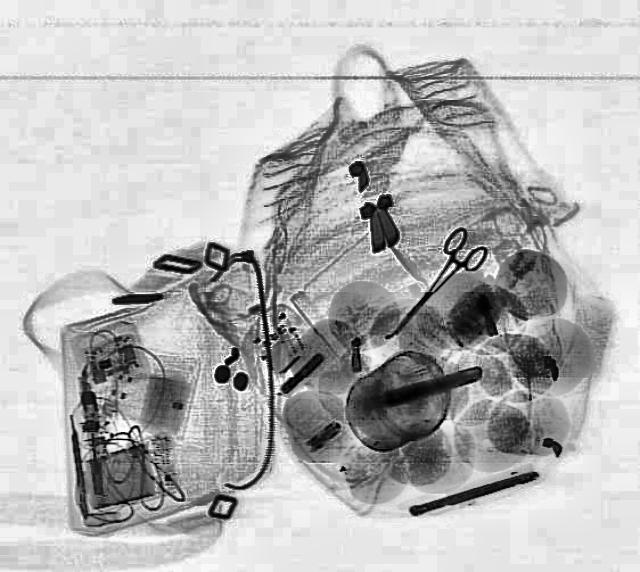Scissors: (362, 223, 496, 349)
